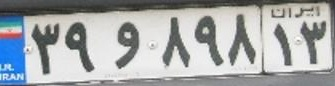character: (63, 18, 101, 78), (27, 19, 64, 79), (191, 11, 227, 72), (225, 9, 260, 71), (160, 11, 193, 76), (110, 17, 143, 72), (299, 18, 330, 67), (268, 21, 296, 68)
